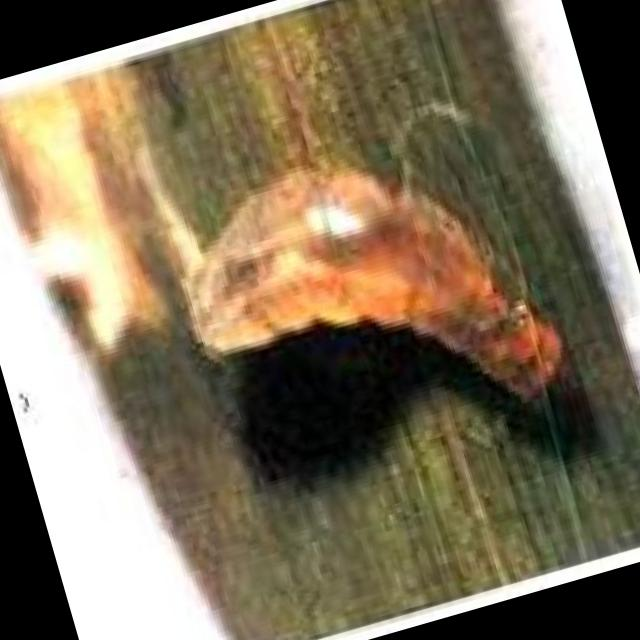whorl-maggot: (186, 160, 570, 422)
